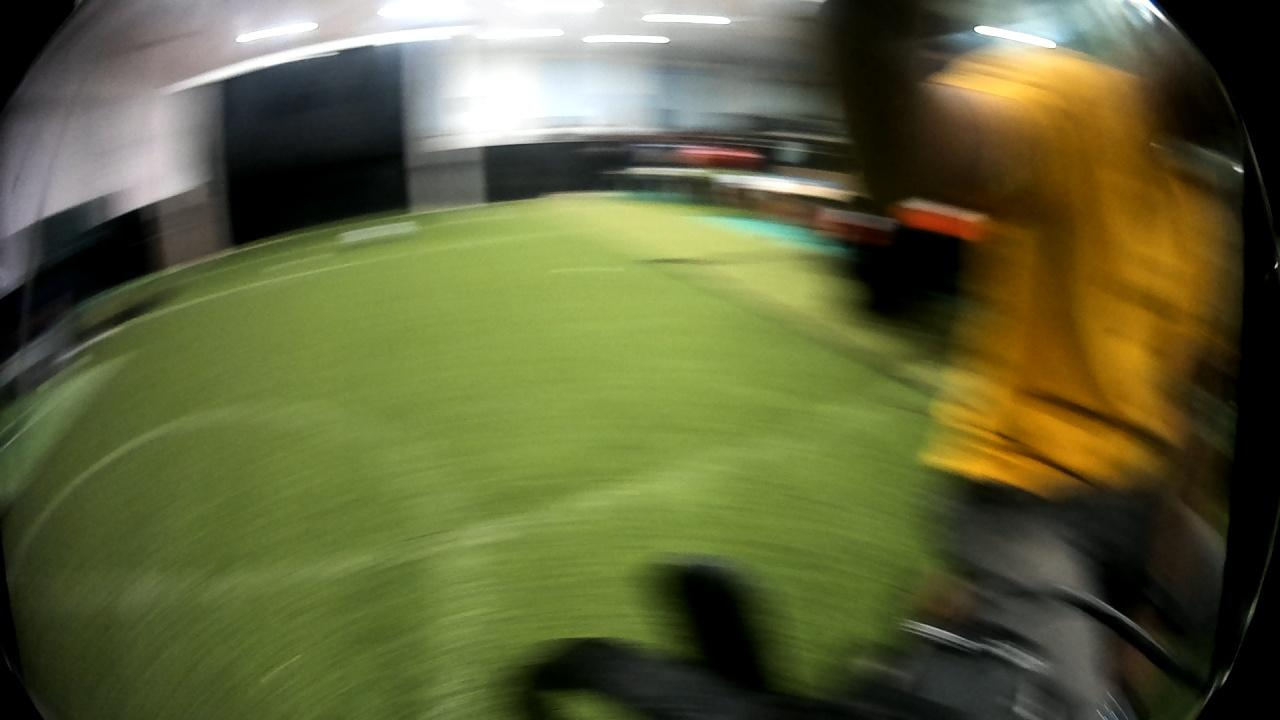ball: (320, 217, 423, 253)
